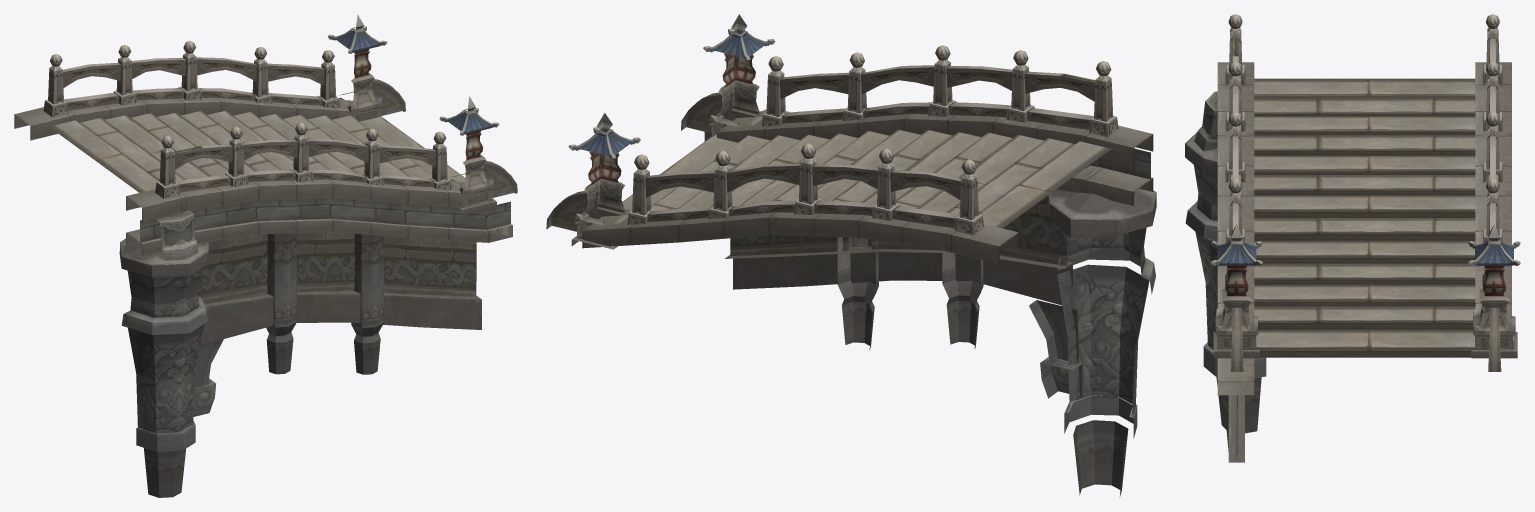
File: cj_luoyang_qiao02_56_04_7021out.fbx
3 renders of one model, left to right at view 1: azimuth 30°, elevation 25°; view 2: azimuth 150°, elevation 25°; view 3: azimuth 270°, elevation 25°, orthographic. The views are drawn at different scales.
Visible parts, largest first — view 1: 0001_cj_luoyang_qiao02, 0000_cj_luoyang_qiao02, 0002_cj_luoyang_qiao02; view 2: 0001_cj_luoyang_qiao02, 0000_cj_luoyang_qiao02, 0002_cj_luoyang_qiao02; view 3: 0002_cj_luoyang_qiao02, 0001_cj_luoyang_qiao02, 0000_cj_luoyang_qiao02.
Part boxes in pixels (x1,y1,x2,y2): 0001_cj_luoyang_qiao02: (14, 14, 517, 497); 0000_cj_luoyang_qiao02: (43, 41, 451, 198); 0002_cj_luoyang_qiao02: (49, 110, 465, 192); 0001_cj_luoyang_qiao02: (546, 14, 1156, 497); 0000_cj_luoyang_qiao02: (627, 45, 1118, 235); 0002_cj_luoyang_qiao02: (622, 129, 1111, 228); 0002_cj_luoyang_qiao02: (1242, 78, 1488, 357); 0001_cj_luoyang_qiao02: (1185, 62, 1520, 462); 0000_cj_luoyang_qiao02: (1225, 14, 1502, 243).
Bounding box in the file's own units: 12.51 × 10.91 × 8.07.
